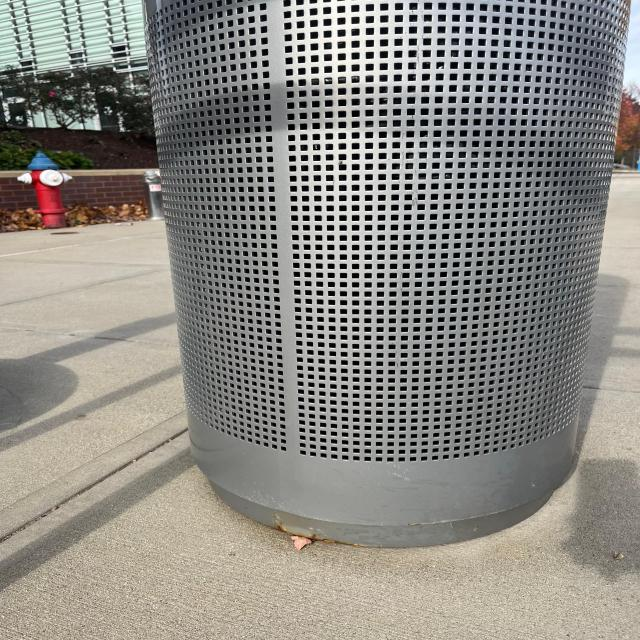Filiform Corrosion: (273, 514, 383, 548)
